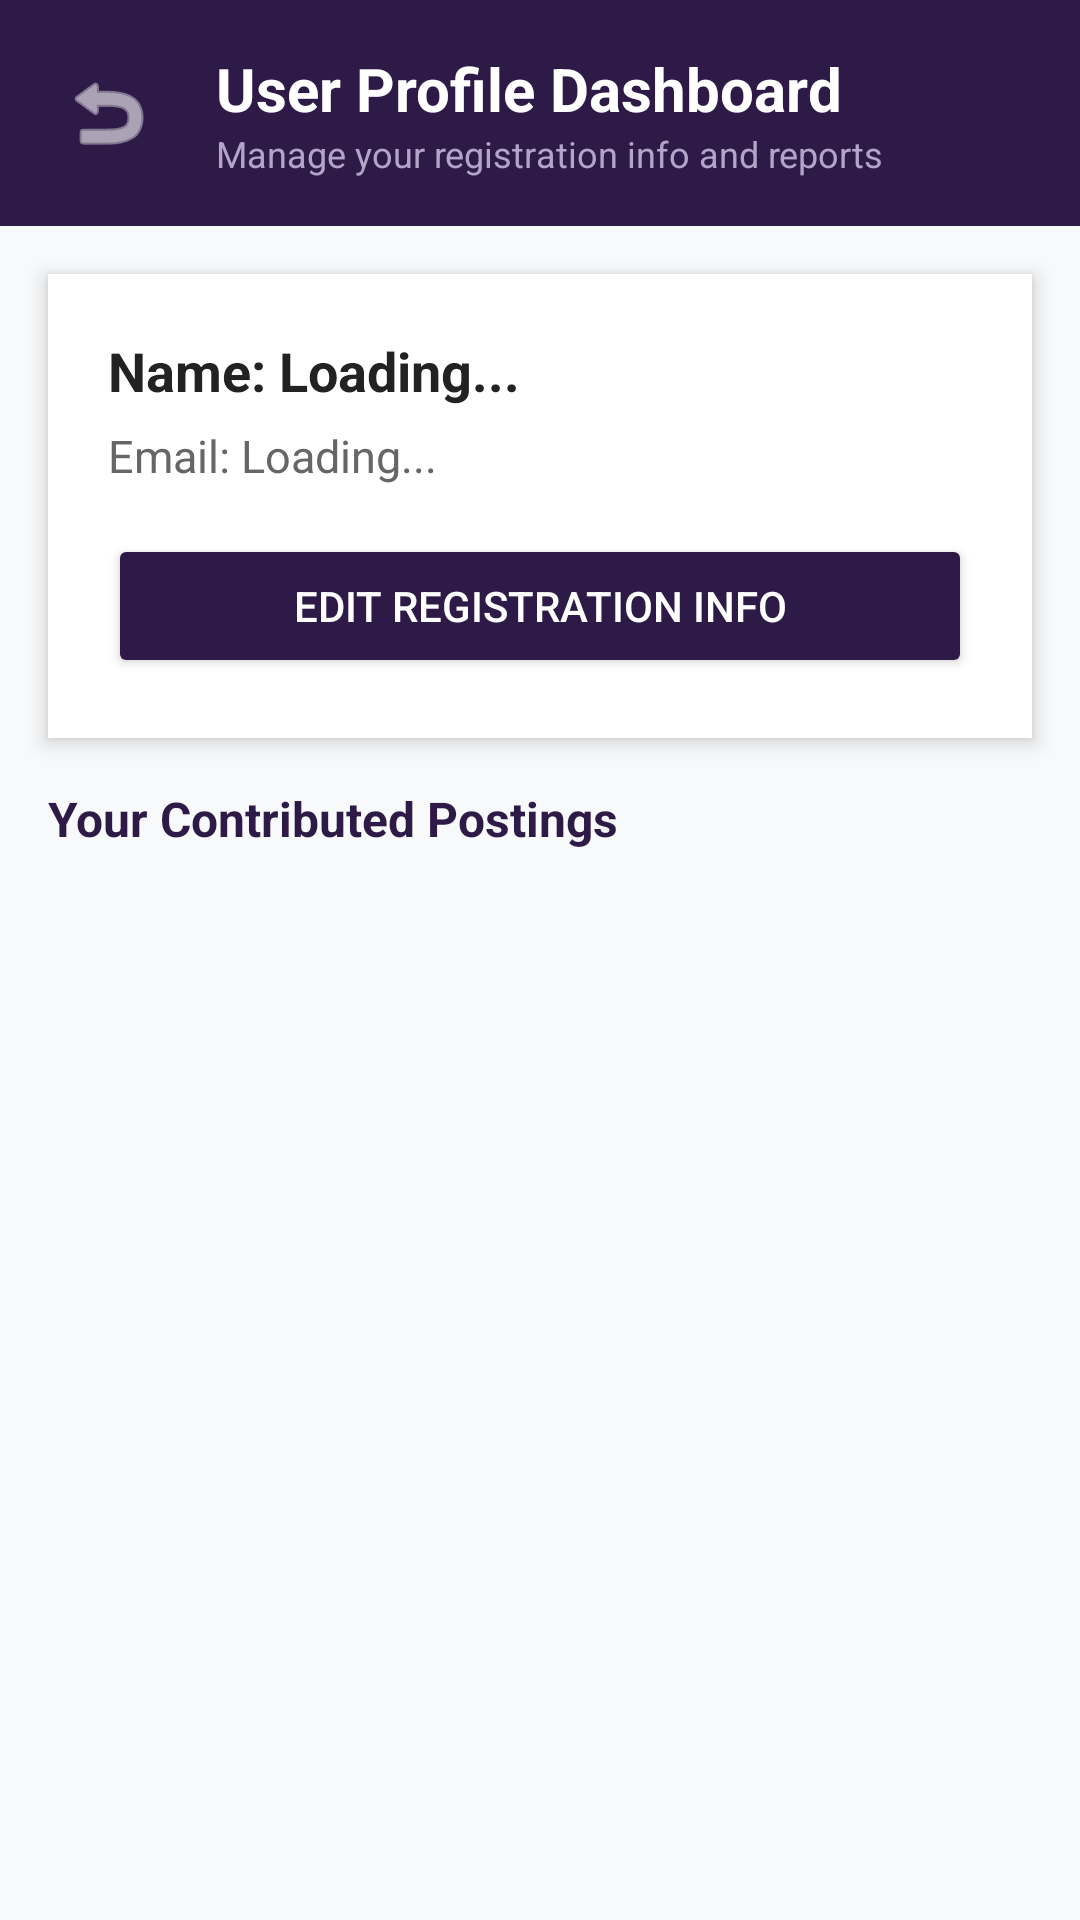

Where to tap for icons on this 1080x1920 app screen, as (x=x, y=y):
Back: (x=109, y=113)
